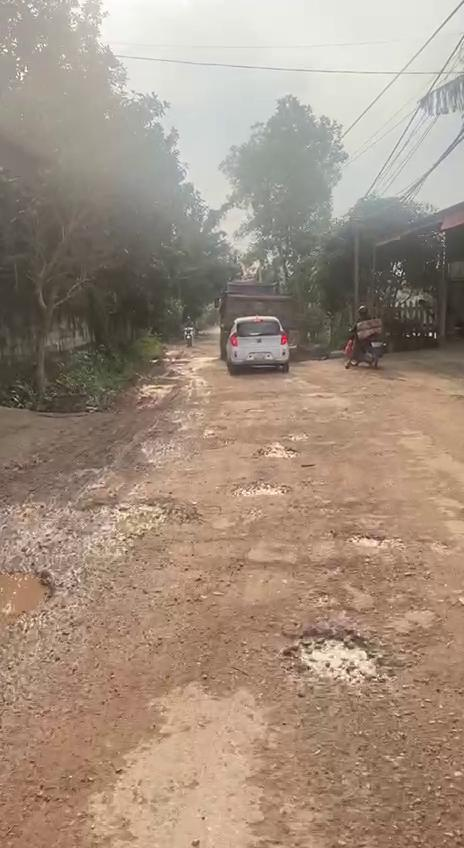pothole: (280, 624, 394, 688), (0, 562, 63, 638), (91, 498, 176, 540), (344, 528, 406, 550), (228, 478, 288, 499), (253, 442, 297, 461)
